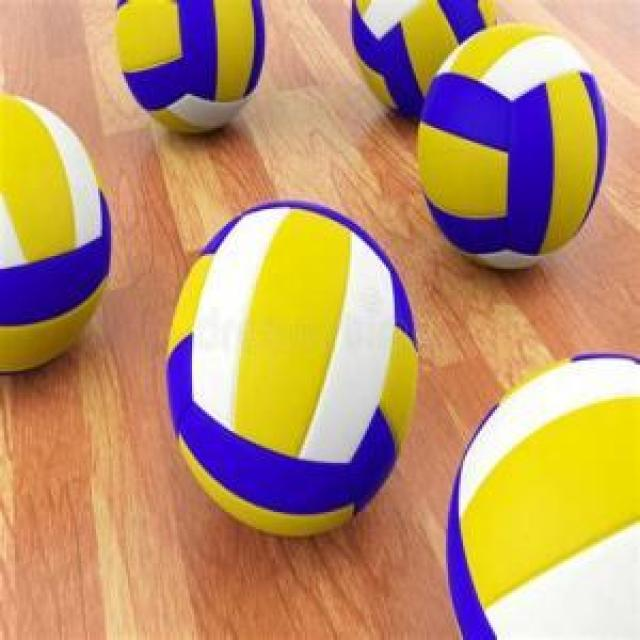volleyball: (167, 199, 420, 536), (448, 352, 638, 638), (418, 22, 608, 270), (0, 91, 111, 374), (115, 1, 265, 133), (352, 1, 501, 123)
